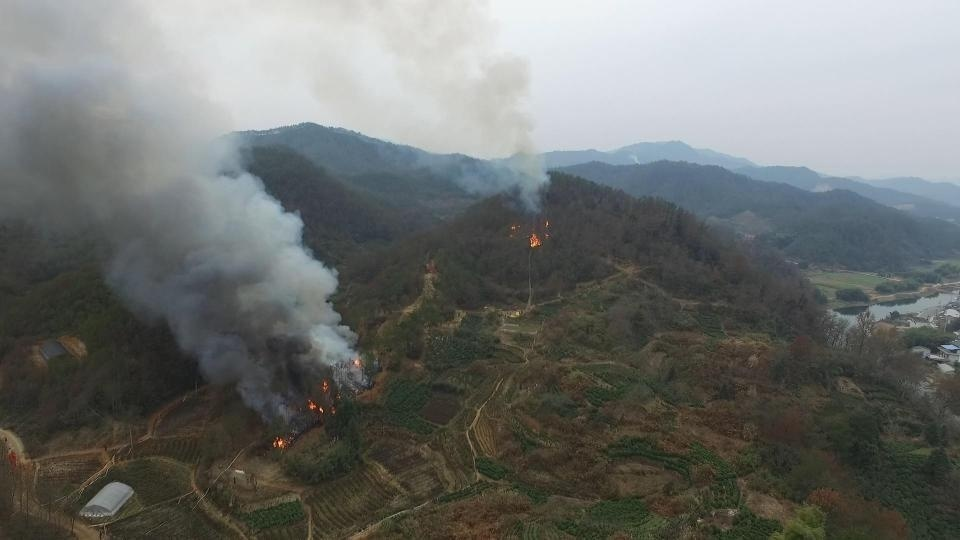fire: (258, 354, 376, 446), (504, 210, 561, 253)
